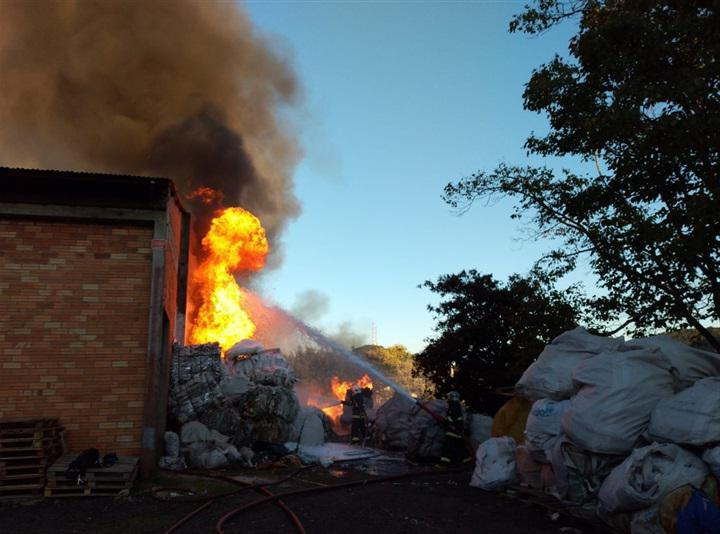Fire: (182, 208, 274, 347), (323, 374, 381, 421)
